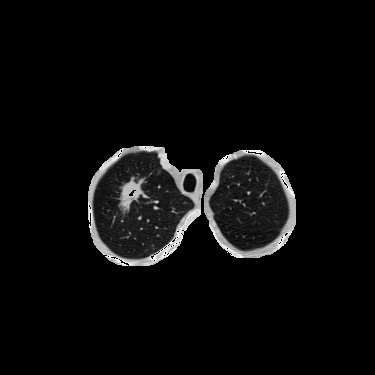PN: (119, 183, 143, 207)
